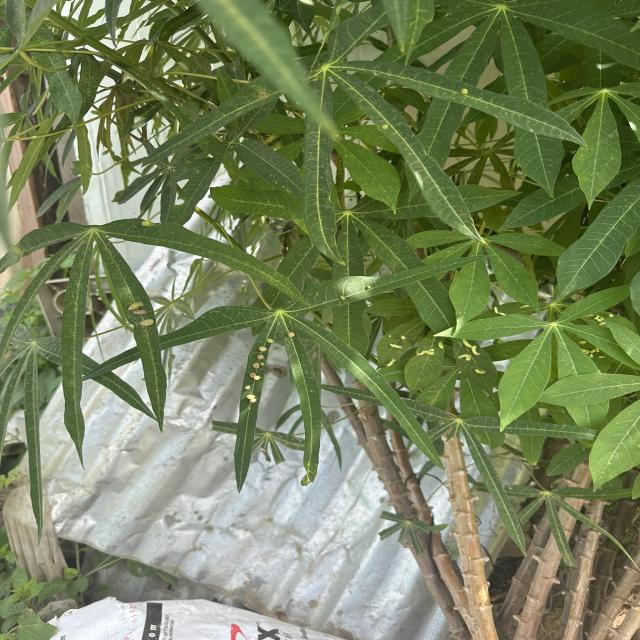Mosca: (243, 327, 286, 425), (454, 328, 512, 400), (374, 325, 417, 375), (570, 324, 608, 370), (338, 283, 386, 319), (416, 309, 449, 361), (466, 291, 518, 320), (121, 295, 154, 336), (231, 135, 253, 180), (280, 322, 308, 350), (593, 309, 621, 336), (369, 114, 398, 136), (463, 79, 487, 103), (336, 118, 354, 149)
